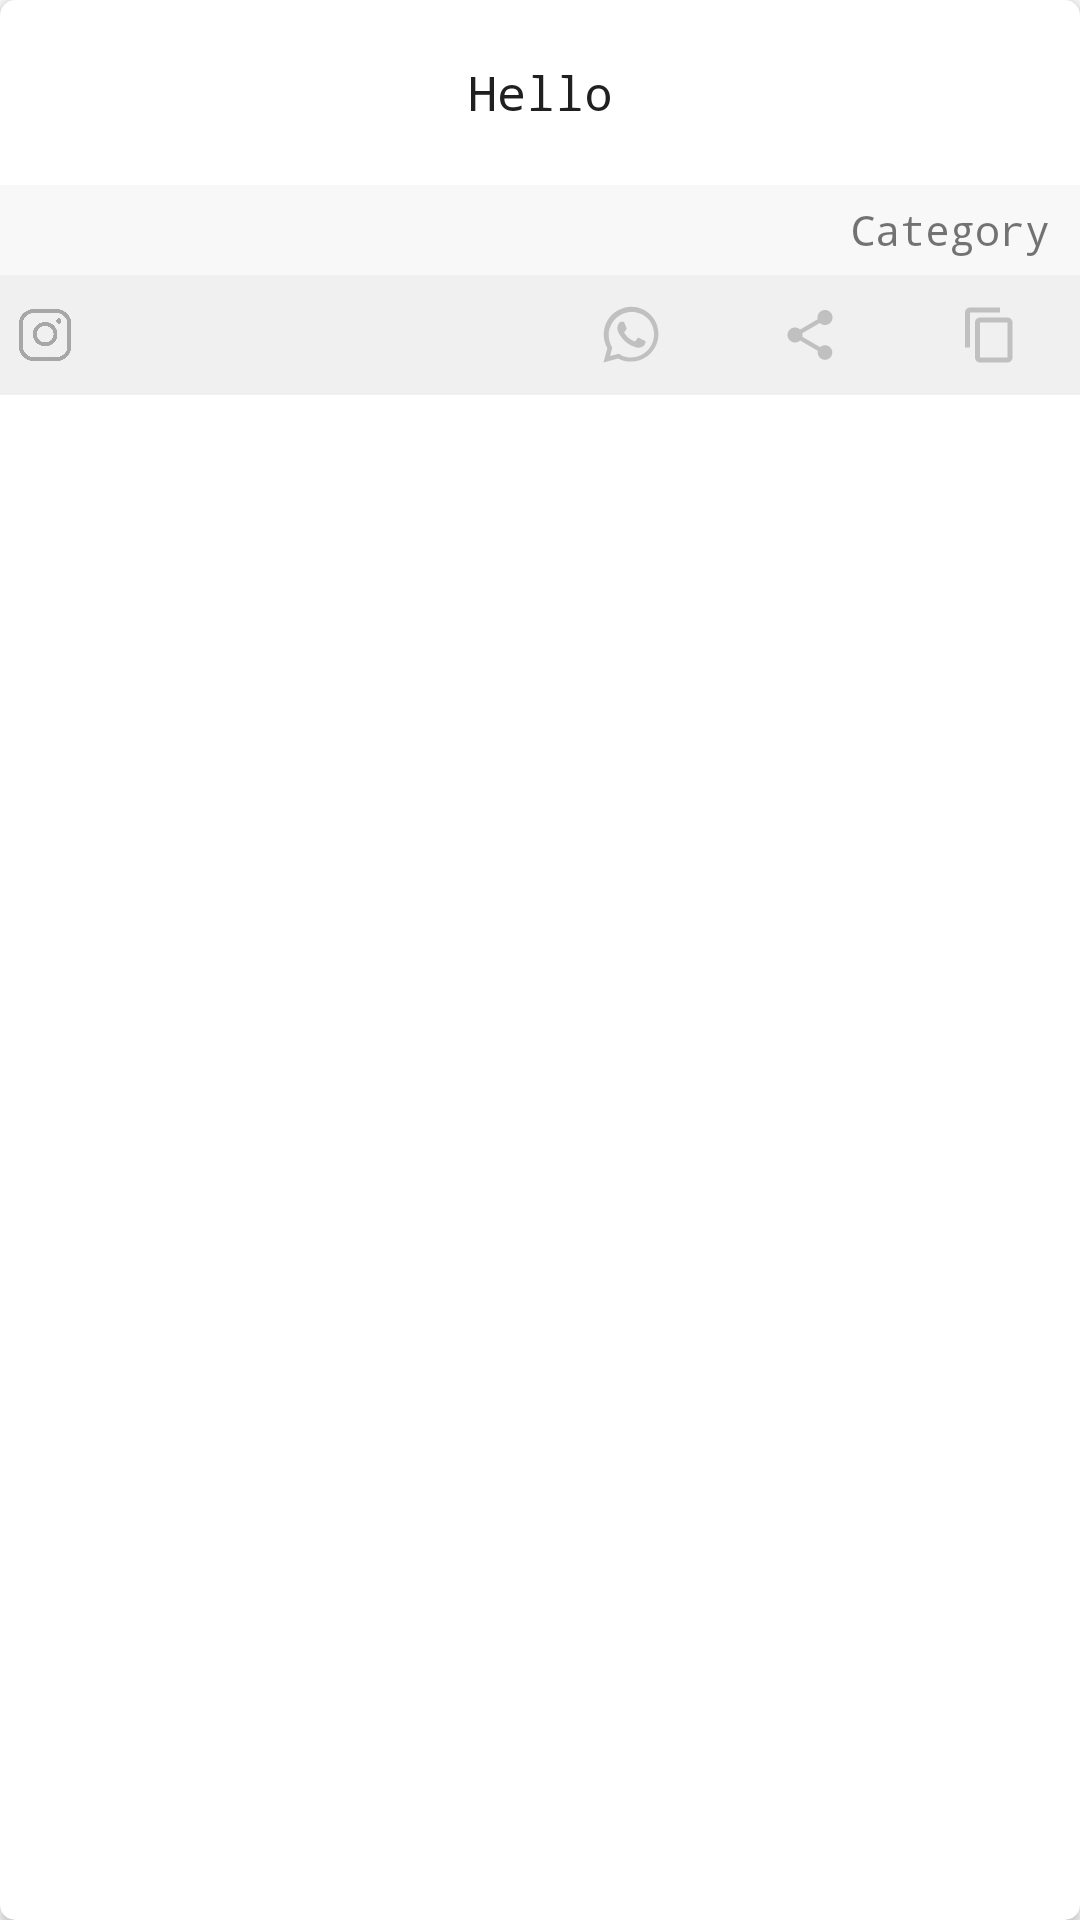

Named icons in this screenshot (1080x1920) and their centers, [x,y]:
share: [810,335]
